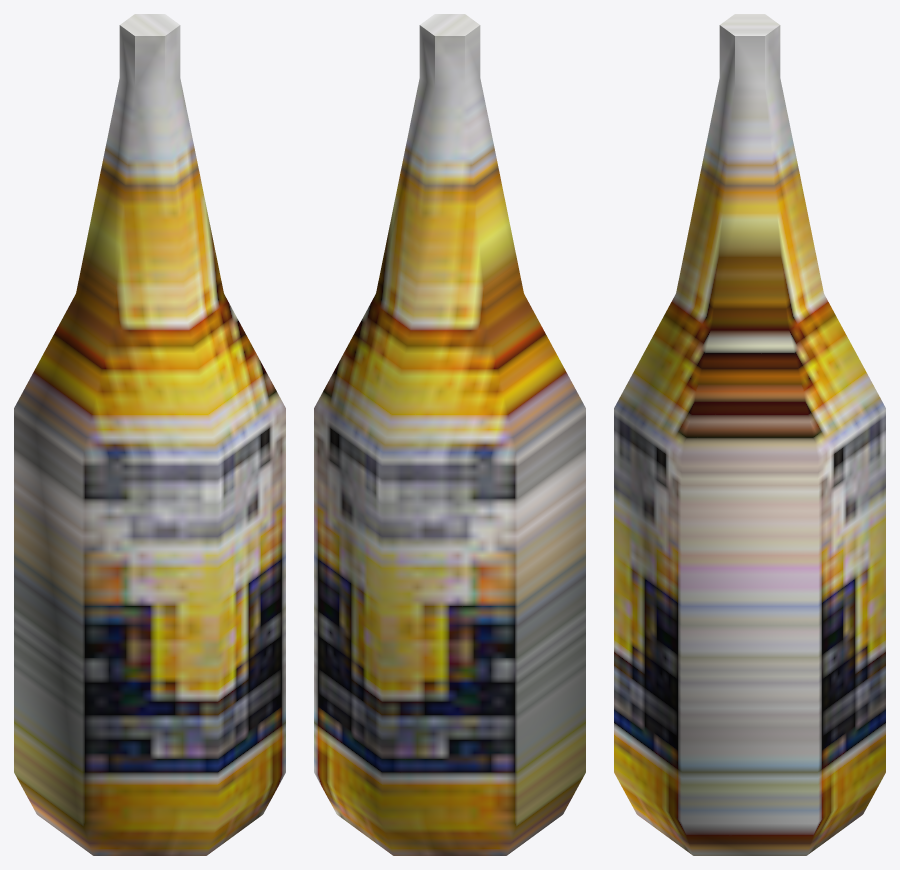
Rendered from Corona.fbx.
3 views of the same model, side by side, from view 1: azimuth 30°, elevation 25°; view 2: azimuth 150°, elevation 25°; view 3: azimuth 270°, elevation 25° (orthographic).
Parts seen in each view (by area): view 1: Cylinder.008; view 2: Cylinder.008; view 3: Cylinder.008.
Boxes of the visible parts, <box> form: Cylinder.008: <box>14,14,285,855</box>; Cylinder.008: <box>314,14,585,855</box>; Cylinder.008: <box>614,14,885,855</box>.
Size of the model in its own units: 52.65 by 195 by 60.79.
Materials: 1 (1 with a texture image).
